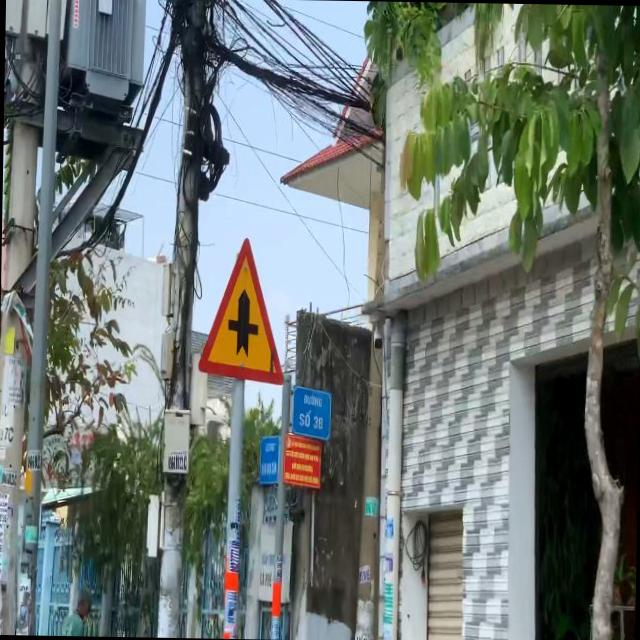W-207a: (198, 234, 288, 385)
